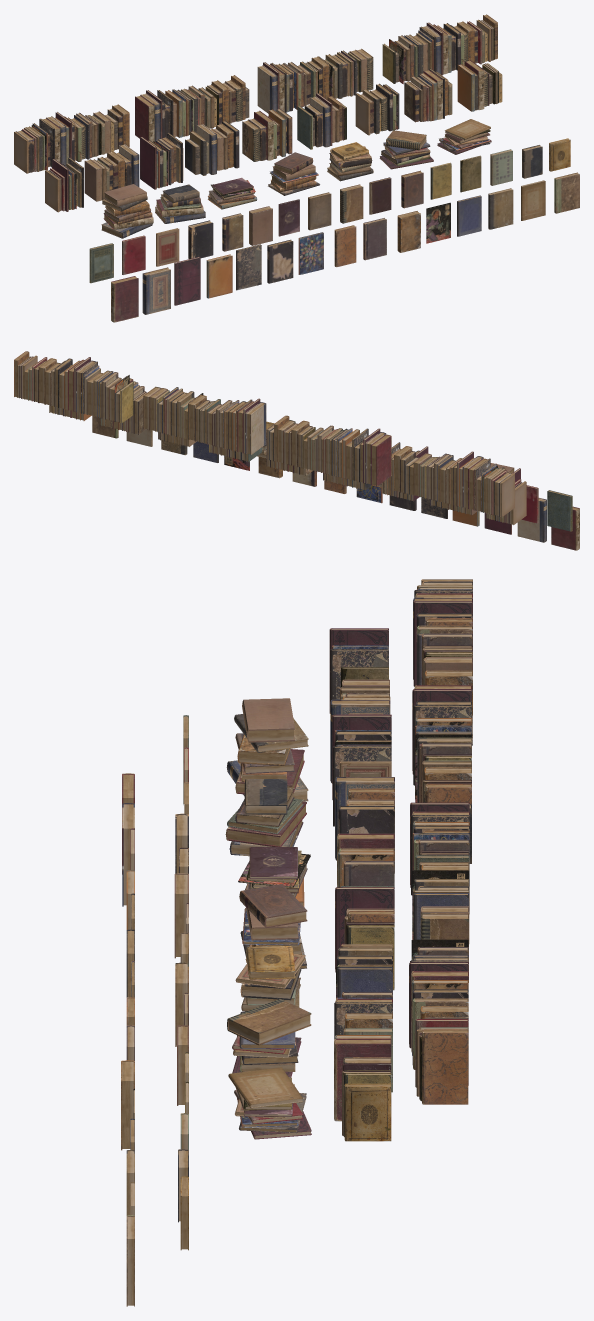
File: Books.fbx
3 renders of one model, top to bottom at view 1: azimuth 30°, elevation 25°; view 2: azimuth 150°, elevation 25°; view 3: azimuth 270°, elevation 25°, orthographic. The views are drawn at different scales.
Visible parts, largest first — view 1: Cube.001, Cube.034, Cube.090, Cube.026, Cube.042, Cube.051, Cube.052, Cube.007, Cube.064, Cube.131, Cube.023, Cube.005 (+39 smaller); view 2: Cube.034, Cube.026, Cube.001, Cube.090, Cube.041, Cube.064, Cube.048, Cube.072, Cube.068, Cube.023, Cube.059, Cube.051 (+15 smaller); view 3: Cube.090, Cube.034, Cube.026, Cube.001, Cube.005, Cube.131, Cube.019, Cube.069, Cube.129, Cube.023, Cube.052, Cube.070 (+10 smaller).
Boxes of the visible parts, bbox=[...] form: Cube.001: bbox=[14, 104, 129, 173]; Cube.034: bbox=[257, 48, 373, 113]; Cube.090: bbox=[382, 14, 497, 84]; Cube.026: bbox=[135, 75, 249, 141]; Cube.042: bbox=[185, 121, 239, 175]; Cube.051: bbox=[242, 109, 292, 161]; Cube.052: bbox=[297, 93, 346, 149]; Cube.007: bbox=[84, 144, 139, 201]; Cube.064: bbox=[404, 68, 452, 122]; Cube.131: bbox=[101, 184, 153, 238]; Cube.023: bbox=[140, 133, 183, 189]; Cube.005: bbox=[457, 60, 502, 111]; Cube.034: bbox=[143, 386, 266, 454]; Cube.026: bbox=[269, 415, 391, 486]; Cube.001: bbox=[394, 446, 514, 516]; Cube.090: bbox=[14, 351, 133, 422]; Cube.041: bbox=[547, 490, 572, 531]; Cube.064: bbox=[101, 376, 146, 434]; Cube.048: bbox=[486, 467, 526, 525]; Cube.072: bbox=[517, 497, 546, 542]; Cube.068: bbox=[551, 506, 579, 550]; Cube.023: bbox=[381, 442, 428, 501]; Cube.059: bbox=[522, 485, 538, 523]; Cube.051: bbox=[266, 420, 313, 475]; Cube.090: bbox=[409, 939, 468, 1104]; Cube.034: bbox=[410, 802, 469, 982]; Cube.026: bbox=[412, 685, 471, 863]; Cube.001: bbox=[413, 579, 472, 745]; Cube.005: bbox=[334, 1035, 391, 1141]; Cube.131: bbox=[226, 698, 308, 801]; Cube.019: bbox=[227, 998, 311, 1077]; Cube.069: bbox=[225, 779, 306, 856]; Cube.129: bbox=[228, 1067, 311, 1139]; Cube.023: bbox=[332, 714, 391, 826]; Cube.052: bbox=[335, 886, 394, 990]; Cube.070: bbox=[239, 884, 307, 968].
Size of the model in its own units: 5209 by 1433 by 1643.
1 material, 1 textured.
